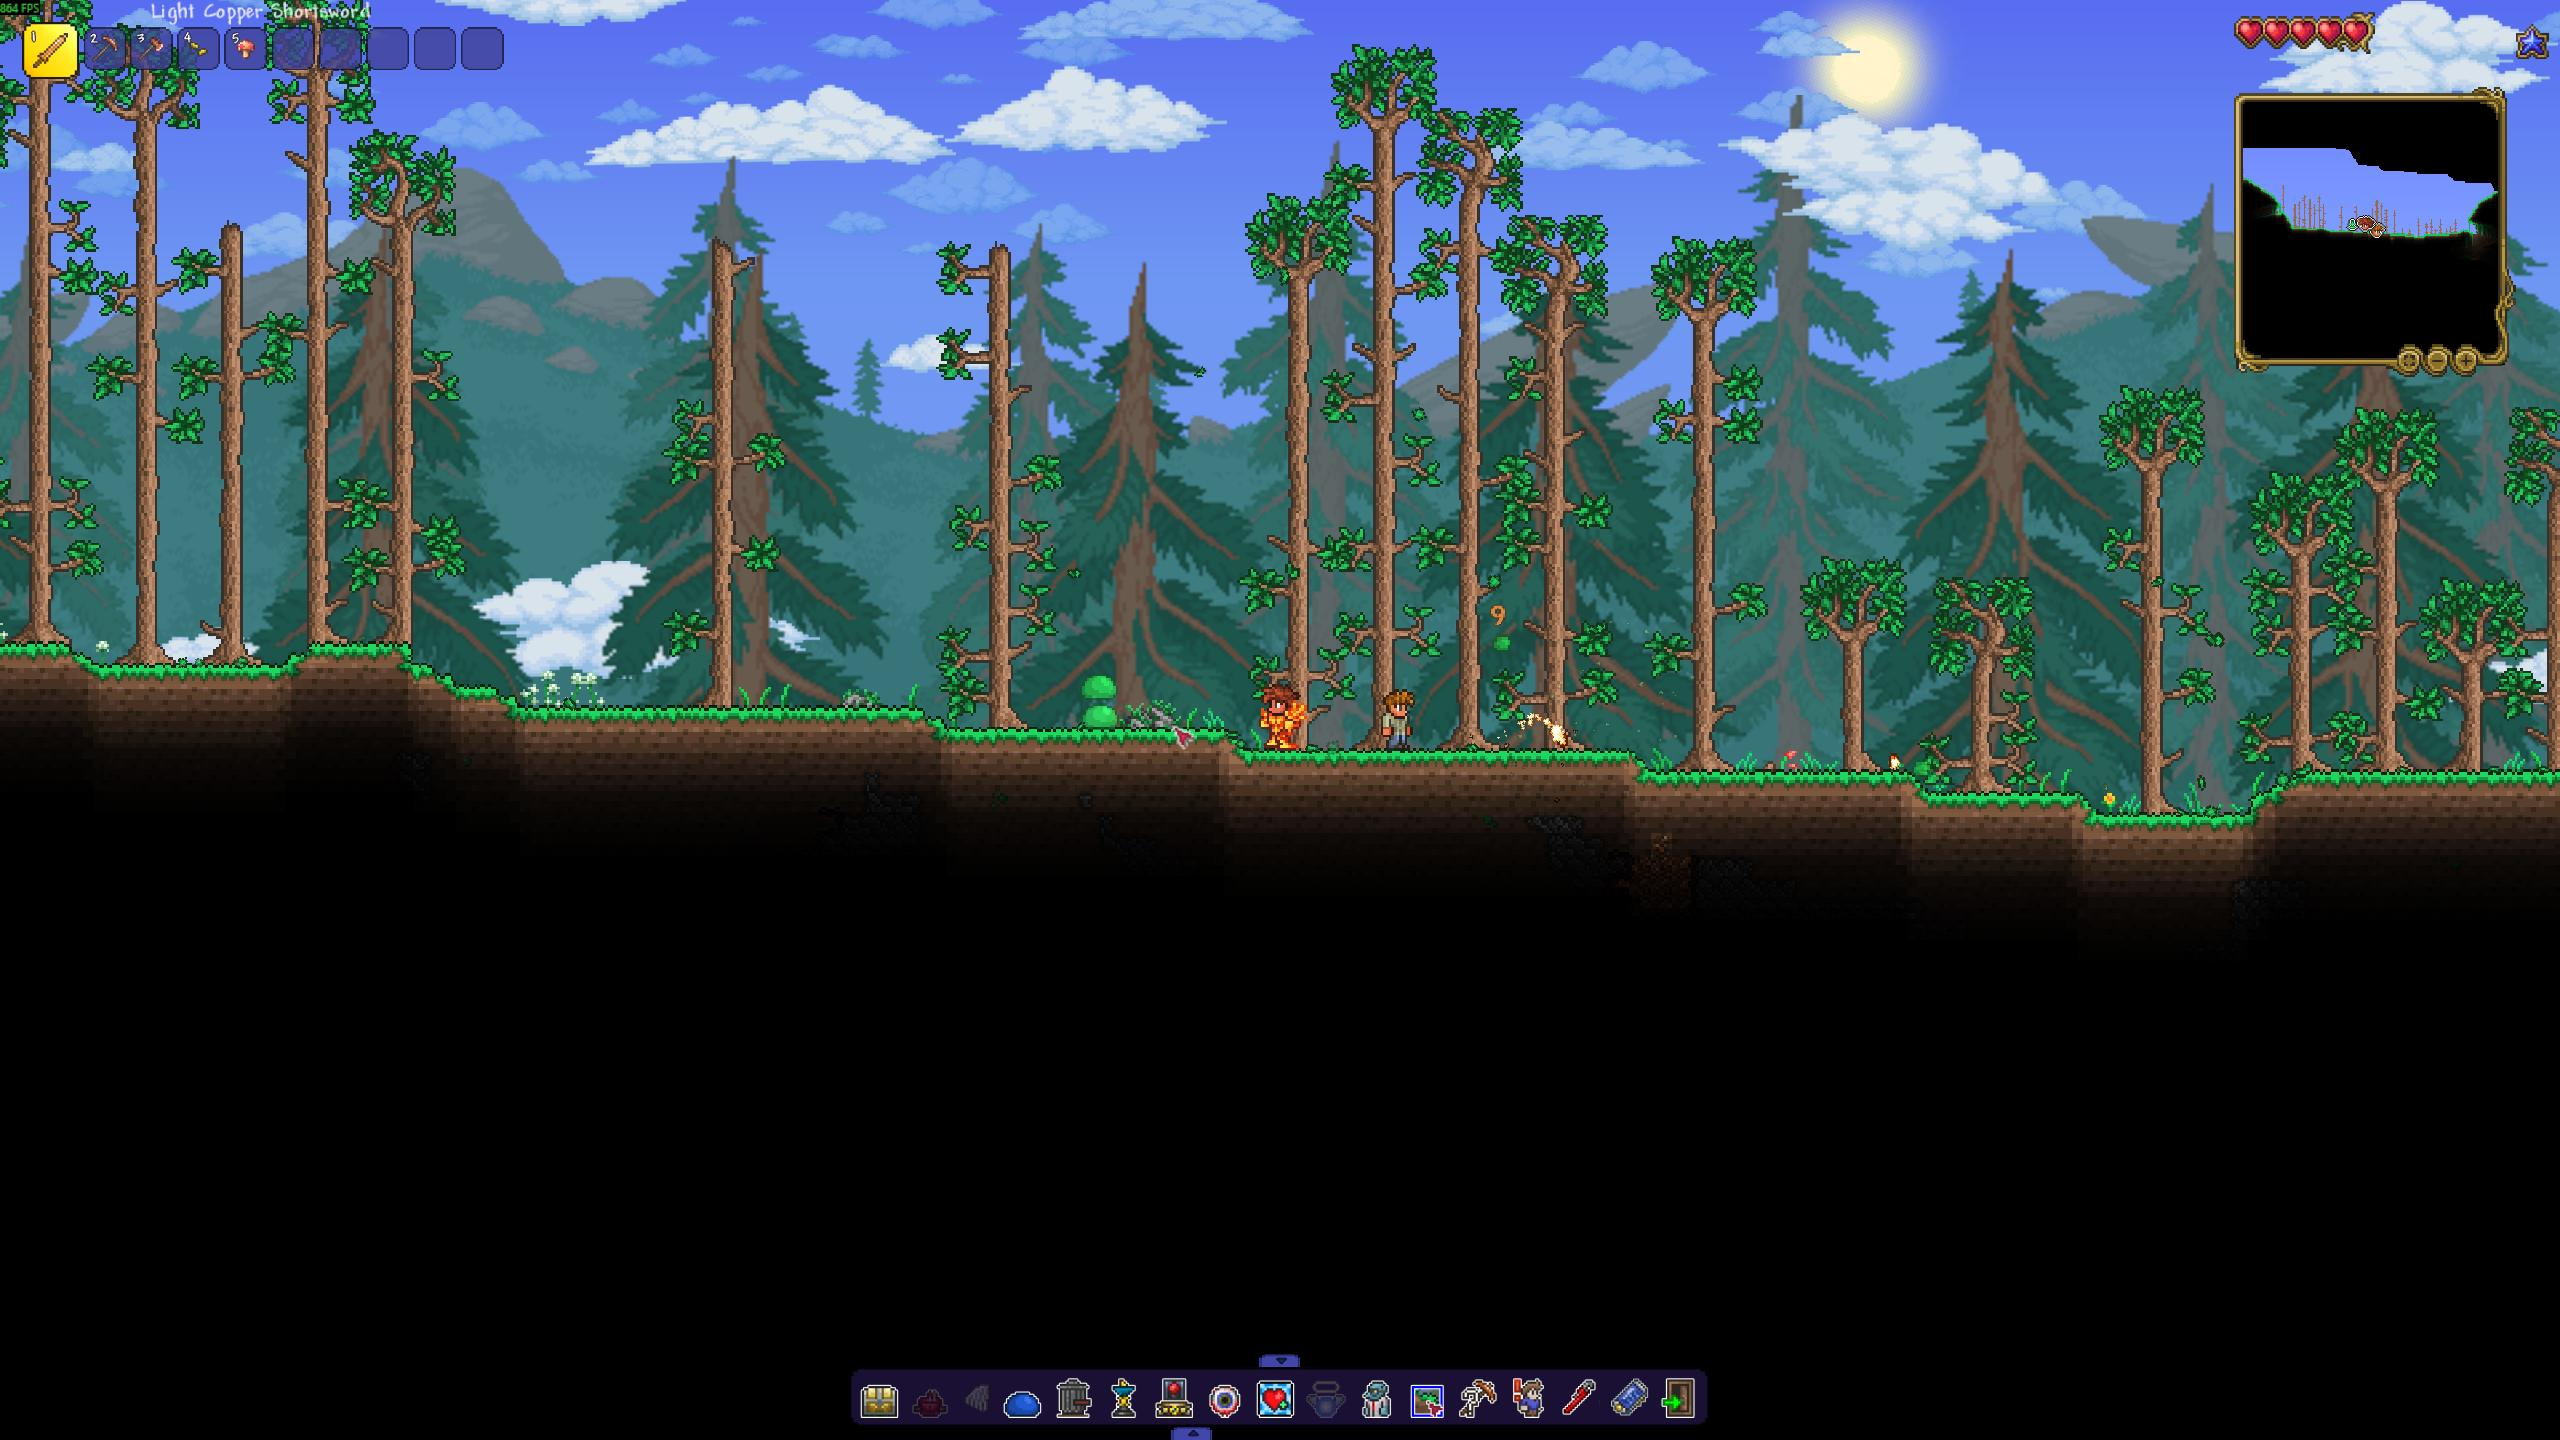Green Slime: (1080, 673, 1118, 702), (1081, 703, 1120, 731)
